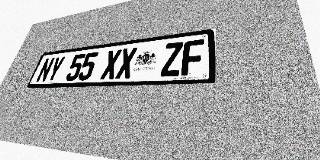5: (77, 52, 99, 81), (65, 53, 86, 81)
F: (181, 39, 204, 76)
N: (35, 57, 55, 83)
X: (115, 47, 137, 79), (100, 49, 122, 80)
Y: (45, 56, 66, 82)
Z: (160, 42, 183, 77)
